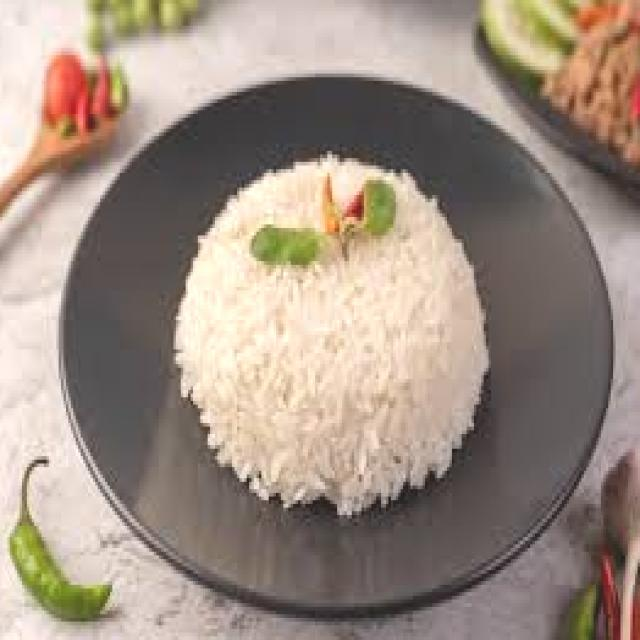nasi: (160, 149, 498, 522)
